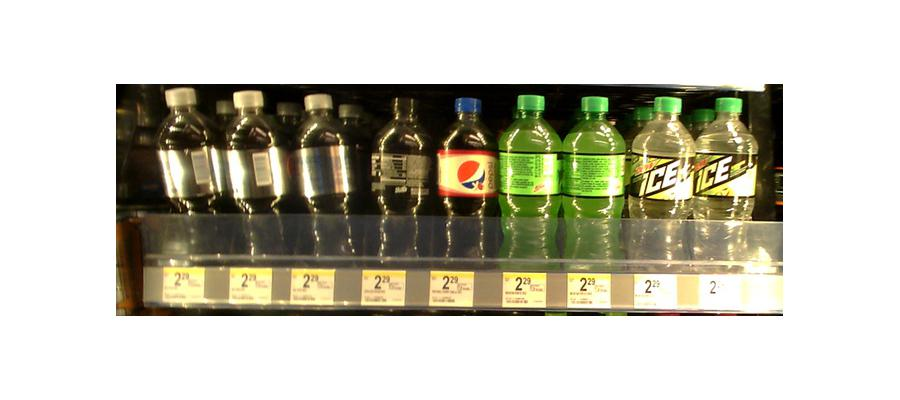bottle: (291, 95, 368, 263), (154, 86, 224, 267), (628, 92, 693, 269), (562, 95, 626, 272), (693, 95, 757, 266), (222, 90, 285, 260), (500, 93, 560, 267), (436, 95, 495, 266), (373, 95, 430, 264)
